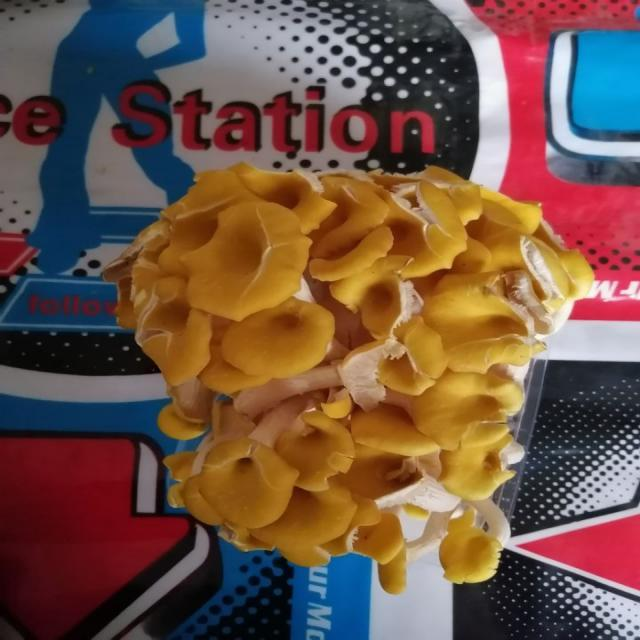Pleurotus citrinopileatus: (121, 171, 598, 589)
